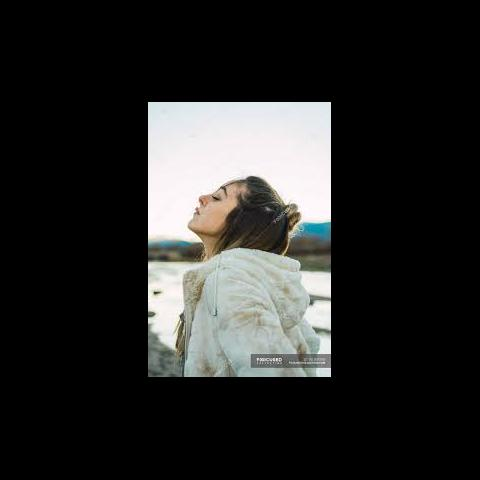closed: (207, 182, 230, 214)
